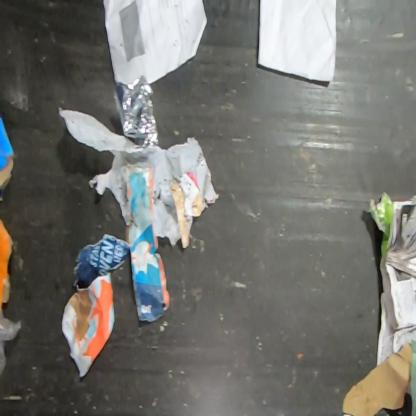cardboard: (342, 340, 414, 416), (0, 115, 16, 202), (0, 216, 14, 311)
metal: (113, 75, 160, 148)
soft_plastic: (58, 105, 219, 247), (0, 308, 22, 379)
